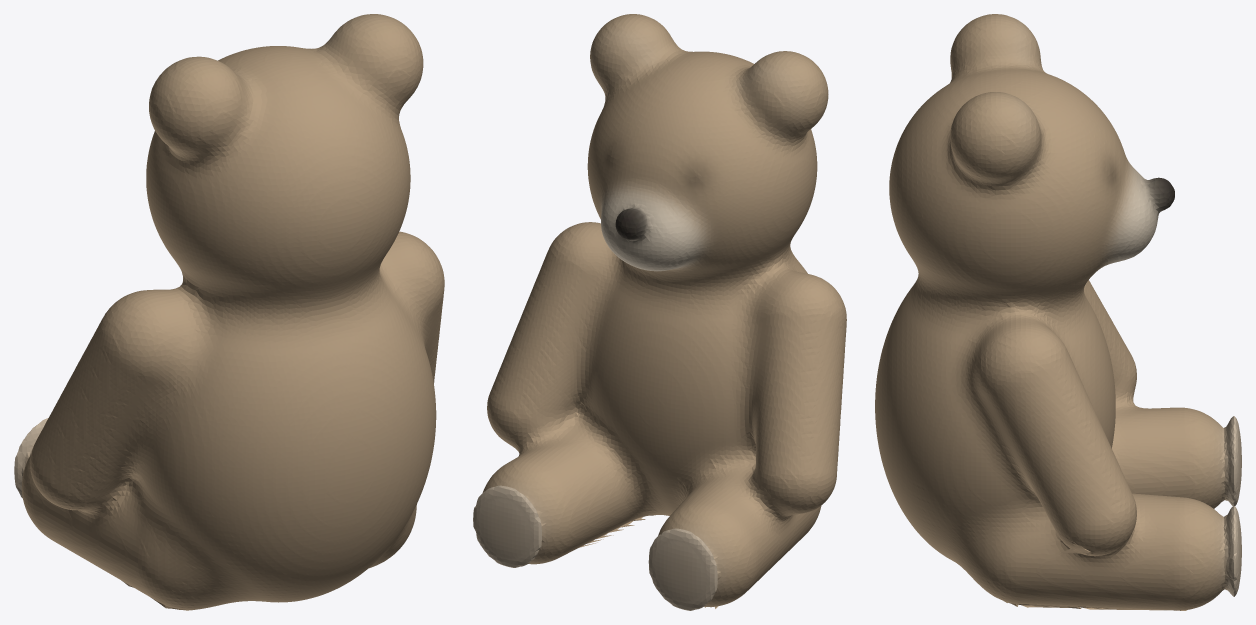
The model's file is teddy.glb.
The picture shows the model from 3 angles, left to right: view 1: azimuth 30°, elevation 25°; view 2: azimuth 150°, elevation 25°; view 3: azimuth 270°, elevation 25°; orthographic projection. The views are drawn at different scales.
Parts seen in each view (by area): view 1: geometry_0; view 2: geometry_0; view 3: geometry_0.
Part boxes in pixels (<box>): geometry_0: <box>14,14,444,610</box>; geometry_0: <box>473,14,846,610</box>; geometry_0: <box>875,14,1241,610</box>.
Bounding box in the file's own units: 0.2899 × 0.392 × 0.259.
